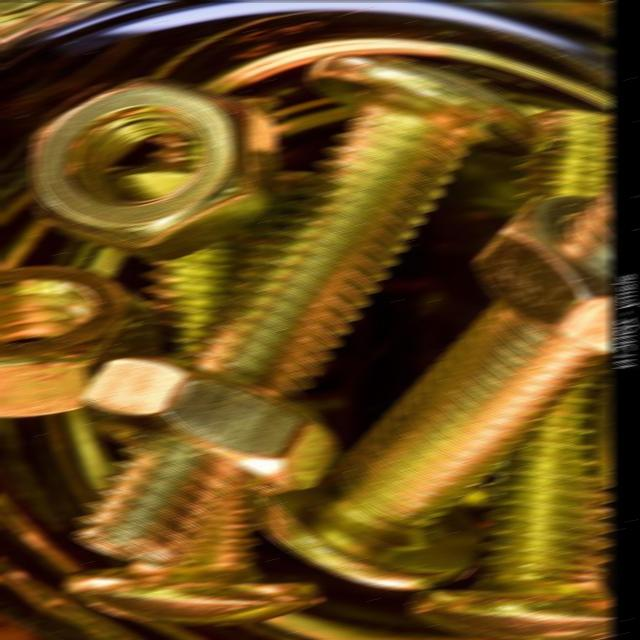Bolt: (66, 50, 558, 562), (56, 128, 327, 629), (406, 105, 612, 640)
Nut: (22, 72, 275, 260), (84, 344, 347, 496), (0, 259, 174, 413), (474, 192, 614, 352)
